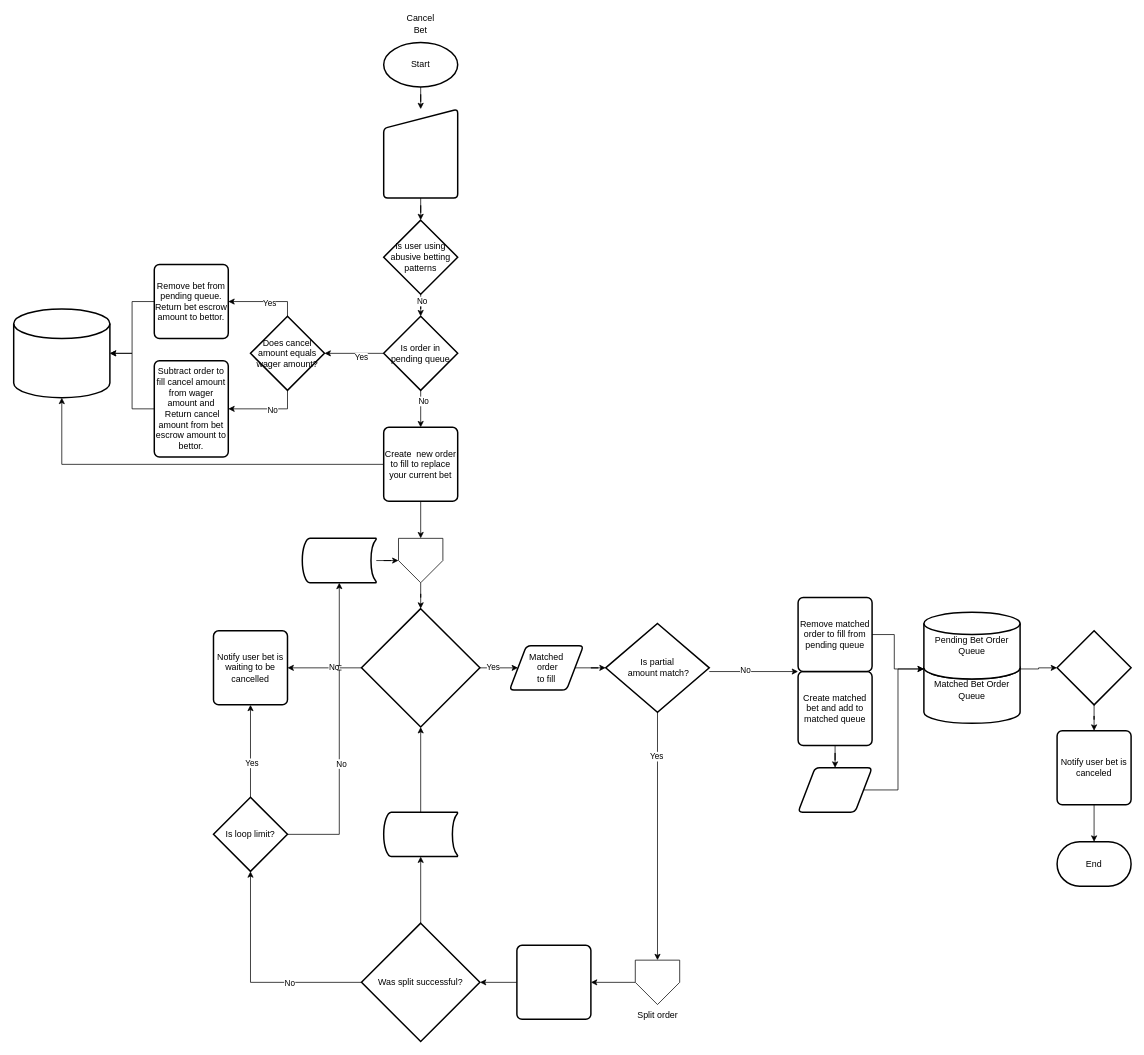
This 1144x1055 diagram has some shape labels left out. Here are the shapes that lost their labels. From the top down, the centre of each, then its label:
point 420,153: User enters in the amount of bet they want to cancel [cA]
point 61,353: User's account value, escrow value, and order to fill storage
point 339,560: original order to fill
point 420,560: Match order to fill
point 420,667: Does bet order match with another bet order in the pending queue?
point 1093,667: Is new matched bet order stored?
point 834,790: Matched bet order
point 420,834: new order to fill
point 553,982: Notify user that partial amount of their order has been cancelled
